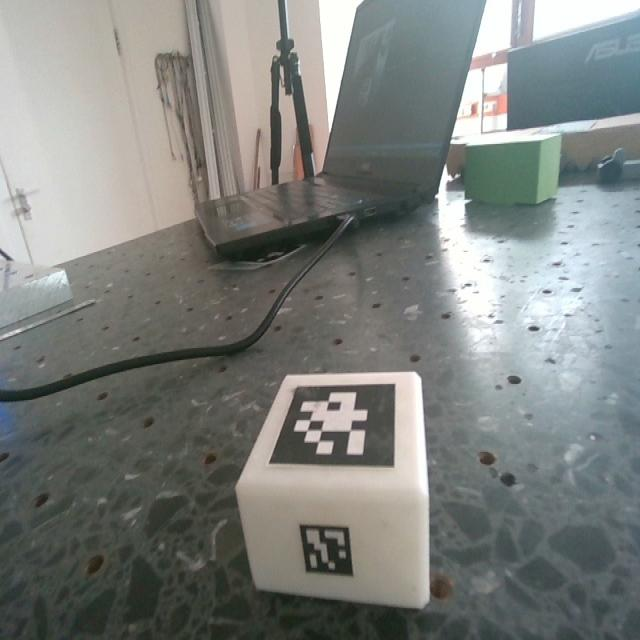Cube: (233, 367, 452, 632)
